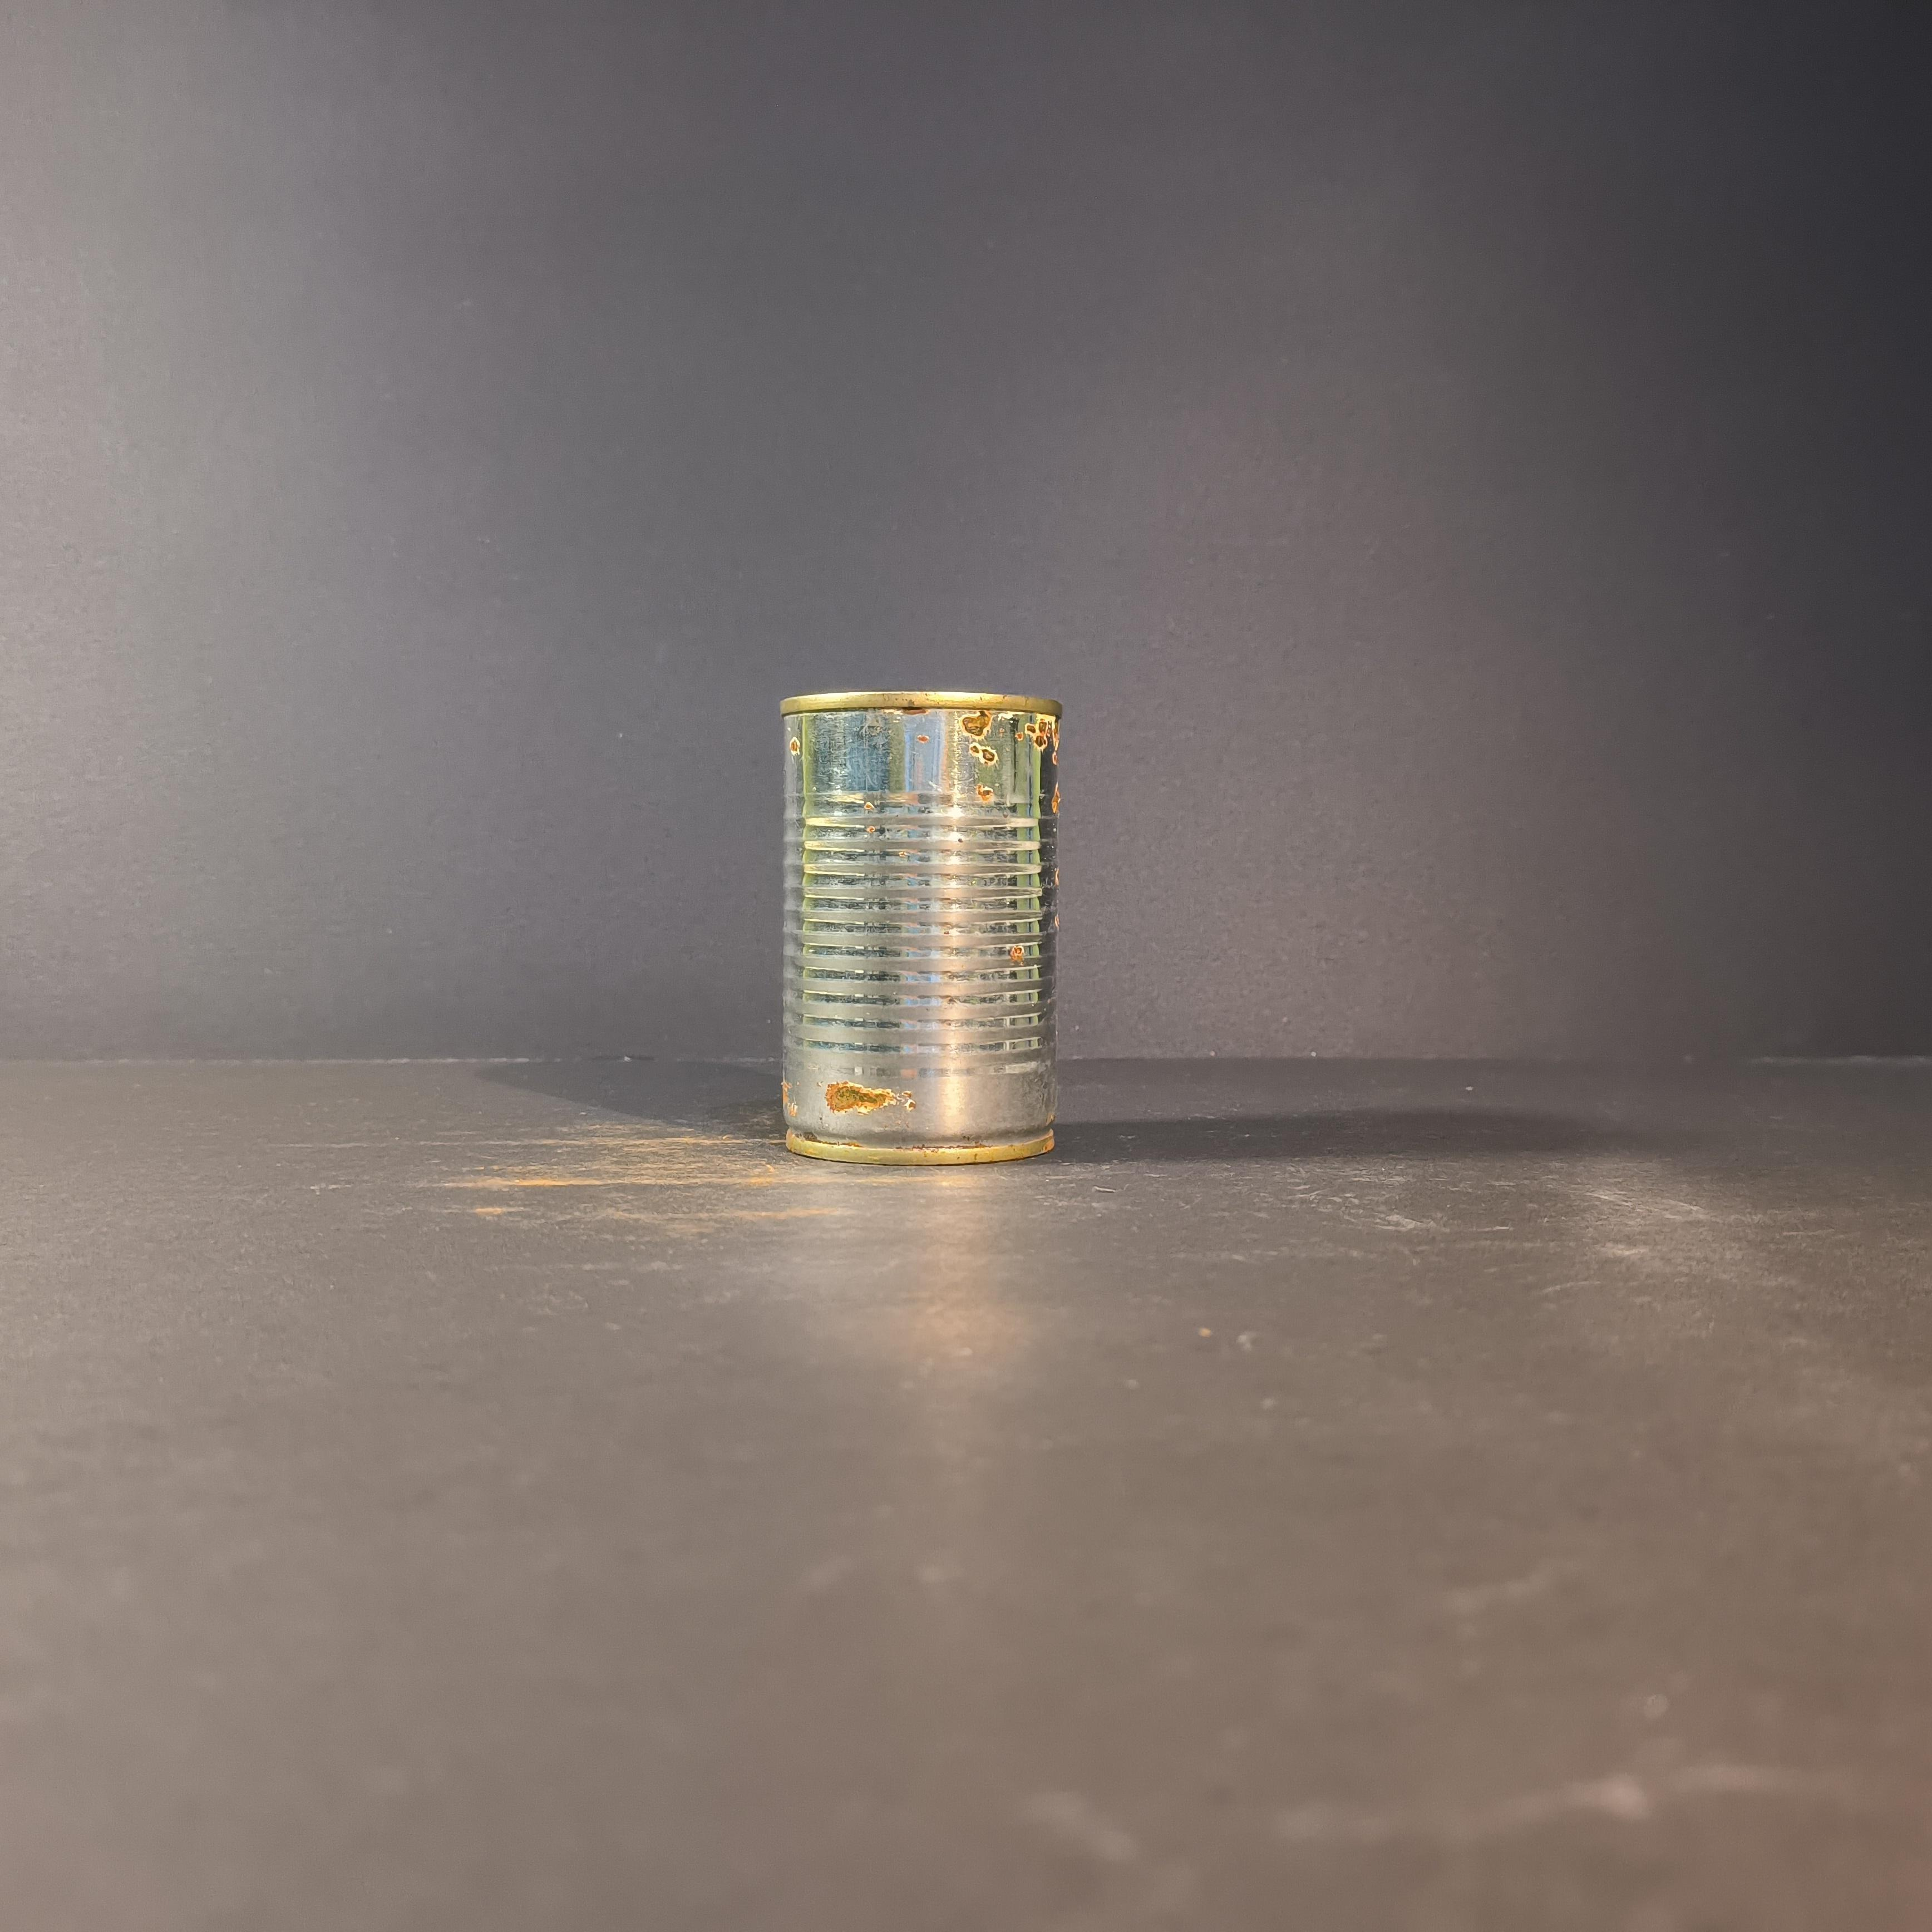Rusted: (768, 660, 1077, 1177)
